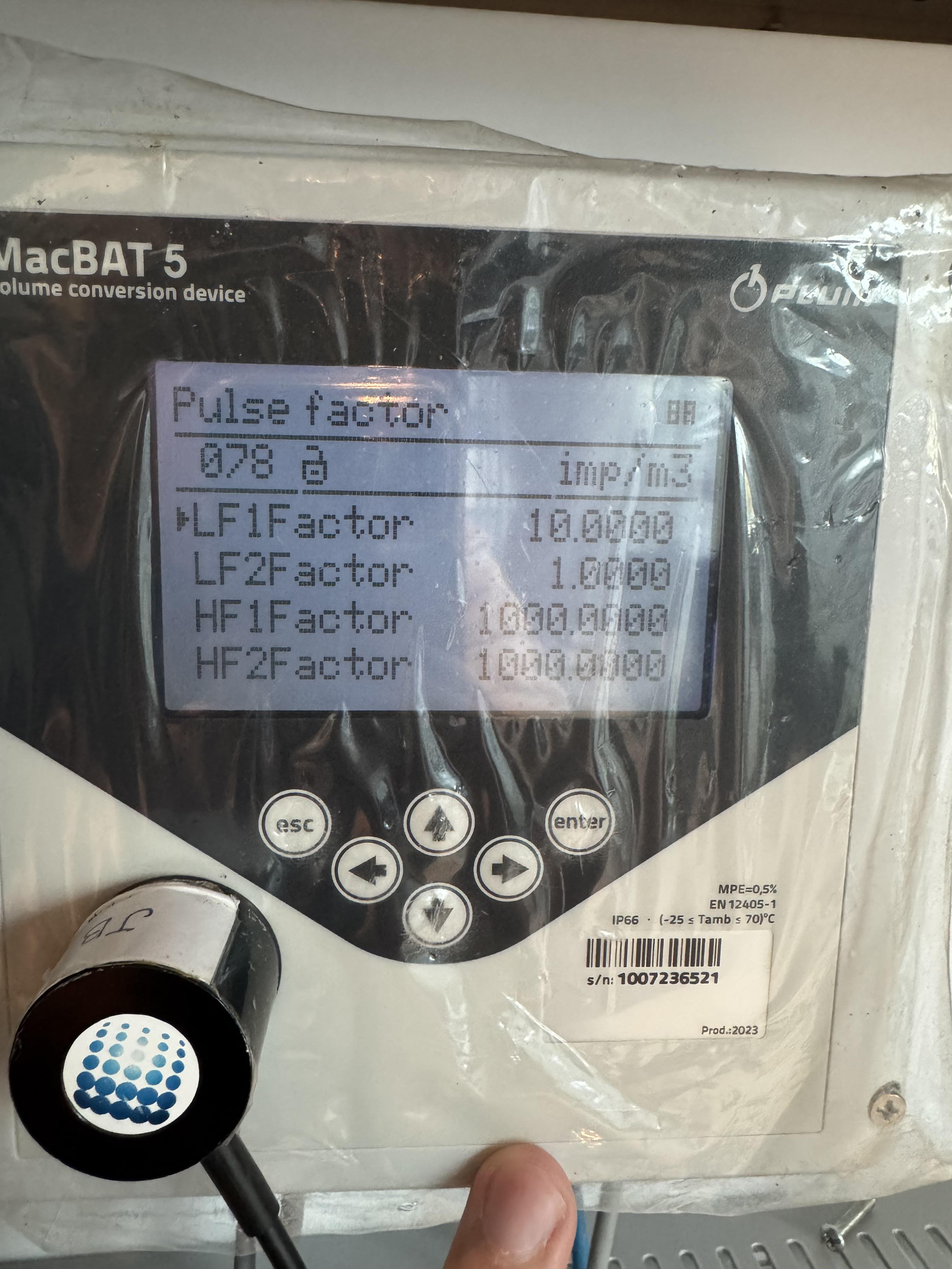digital_screen: (148, 363, 732, 716)
